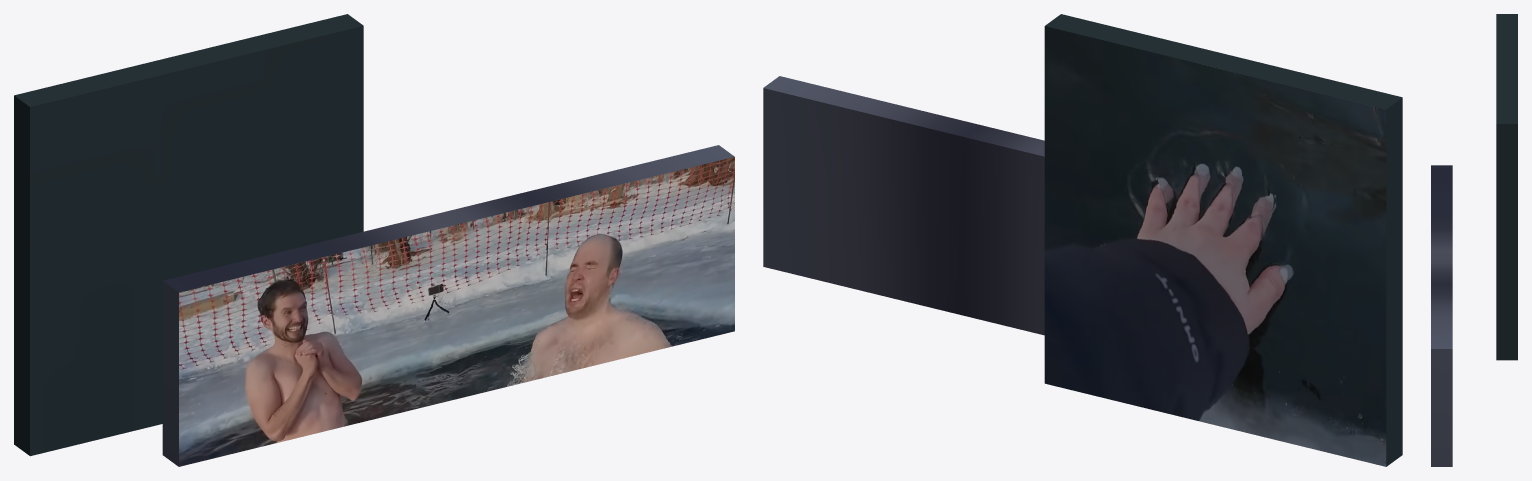
Rendered from posters.glb.
3 renders of one model, left to right at view 1: azimuth 30°, elevation 25°; view 2: azimuth 150°, elevation 25°; view 3: azimuth 270°, elevation 25°, orthographic. The views are drawn at different scales.
Visible parts, largest first — view 1: Cube.138, Cube.137; view 2: Cube.137, Cube.138; view 3: Cube.137, Cube.138.
Boxes of the visible parts, box(x1,y1,x2,y2) form: Cube.138: box(162, 145, 734, 466); Cube.137: box(14, 14, 363, 456); Cube.137: box(1044, 14, 1402, 466); Cube.138: box(763, 76, 1044, 335); Cube.137: box(1496, 14, 1517, 360); Cube.138: box(1431, 165, 1452, 466).
Size of the model in its own units: 2.36 by 1.2 by 0.4.
Materials: 2 (2 with a texture image).
